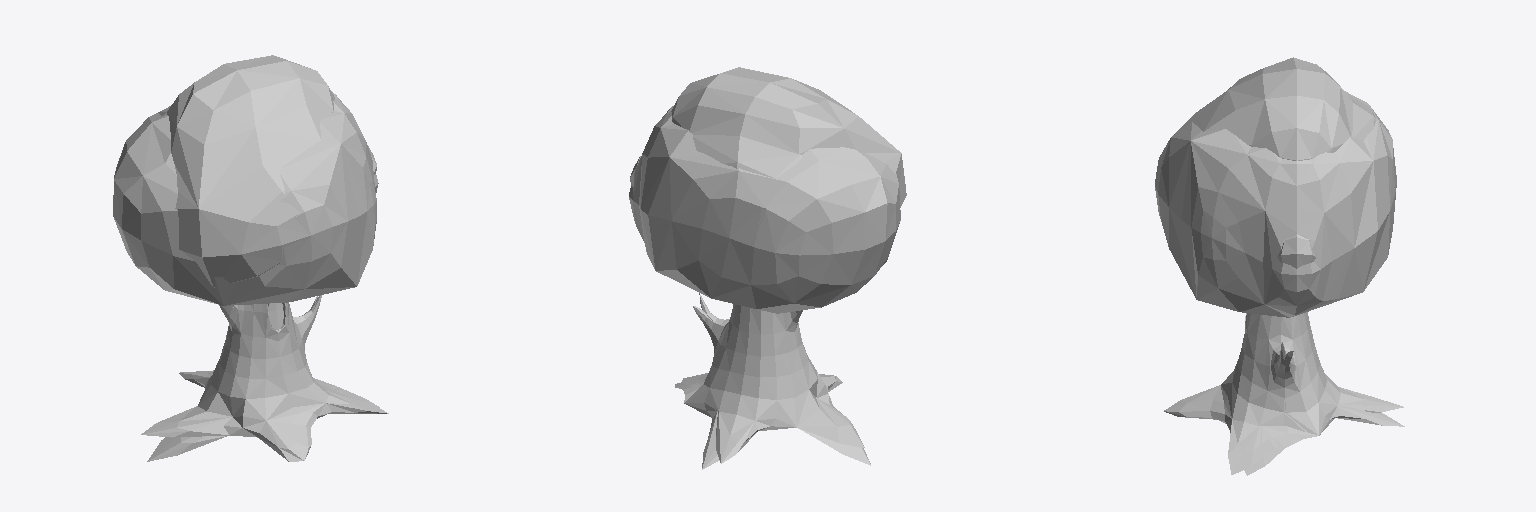
File: EnemyTreeVar1.obj
The picture shows the model from 3 angles: view 1: azimuth 30°, elevation 25°; view 2: azimuth 150°, elevation 25°; view 3: azimuth 270°, elevation 25°; orthographic projection.
Parts seen in each view (by area): view 1: Cube.003, Cube.001, Cube.002, Cube; view 2: Cube.001, Cube.003, Cube.002, Cube; view 3: Cube.001, Cube.003, Cube.002, Cube.
Boxes of the visible parts, box(x1,y1,x2,y2) form: Cube.003: box(158, 55, 376, 287); Cube.001: box(113, 93, 378, 305); Cube.002: box(141, 295, 388, 461); Cube: box(147, 296, 379, 461); Cube.001: box(629, 106, 900, 313); Cube.003: box(630, 67, 906, 246); Cube.002: box(682, 293, 864, 469); Cube: box(675, 306, 870, 465); Cube.001: box(1155, 91, 1396, 317); Cube.003: box(1174, 57, 1376, 268); Cube.002: box(1164, 312, 1404, 474); Cube: box(1244, 346, 1403, 475).
Bounding box in the file's own units: 14.15 × 19.54 × 12.19.